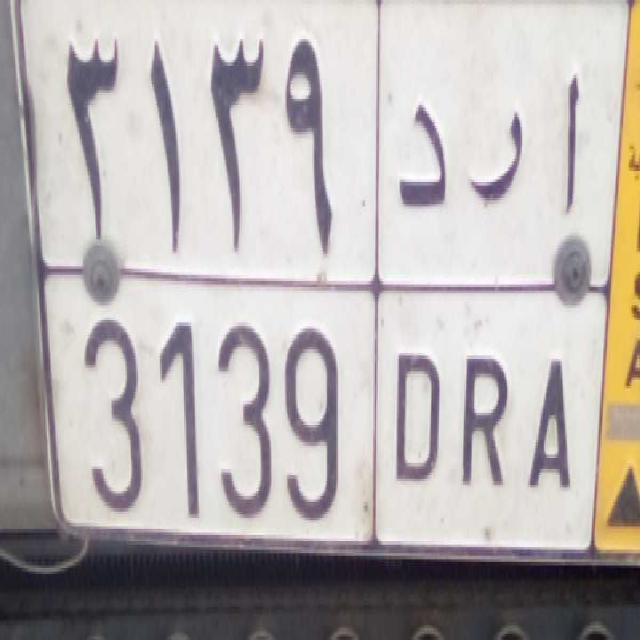license_plate: (39, 264, 596, 558)
